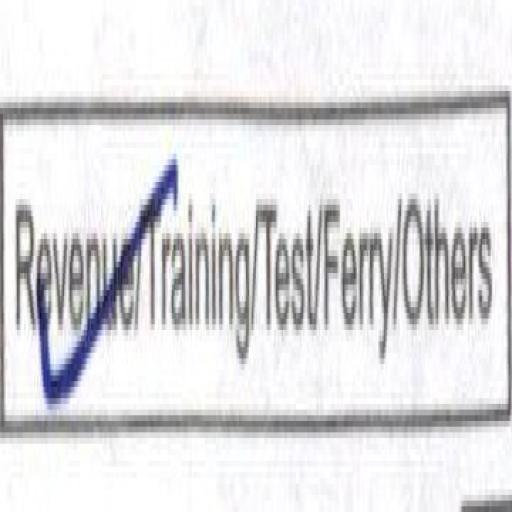check: (4, 79, 138, 453)
